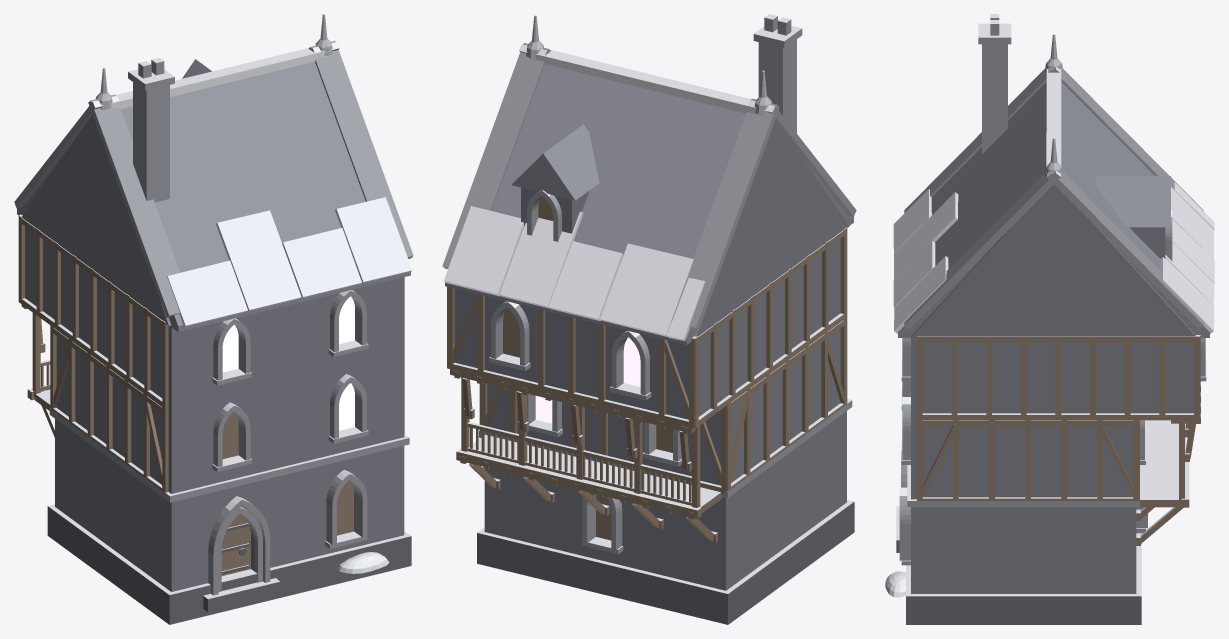
Rendered from AR_Casa_Debrucada_C.fbx.
The picture shows the model from 3 angles, left to right: view 1: azimuth 30°, elevation 25°; view 2: azimuth 150°, elevation 25°; view 3: azimuth 270°, elevation 25°; orthographic projection. The views are drawn at different scales.
Visible parts, largest first — view 1: AR_Casa_Debrucada_C; view 2: AR_Casa_Debrucada_C; view 3: AR_Casa_Debrucada_C.
Boxes of the visible parts, x1,y1,x2,y2 form: AR_Casa_Debrucada_C: (14, 14, 413, 624); AR_Casa_Debrucada_C: (442, 14, 856, 624); AR_Casa_Debrucada_C: (885, 14, 1214, 624).
Size of the model in its own units: 9.45 by 19.3 by 11.42.
